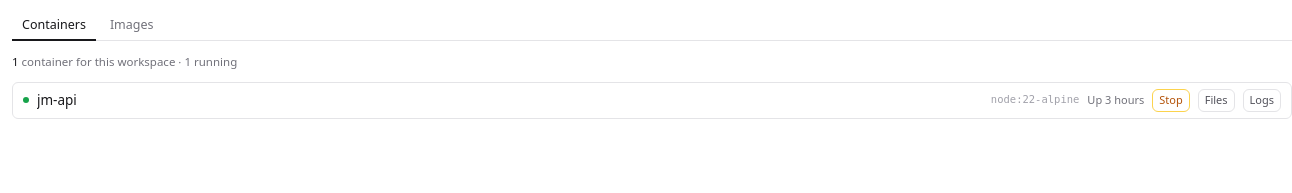
AC-6 — a click asks, it does not act › cancelling issues nothing and dismisses the question
The image size is (1292, 193).
Click the button with test id "docker-act-jm-api" at (1171, 100), box [1152,89,1190,112]
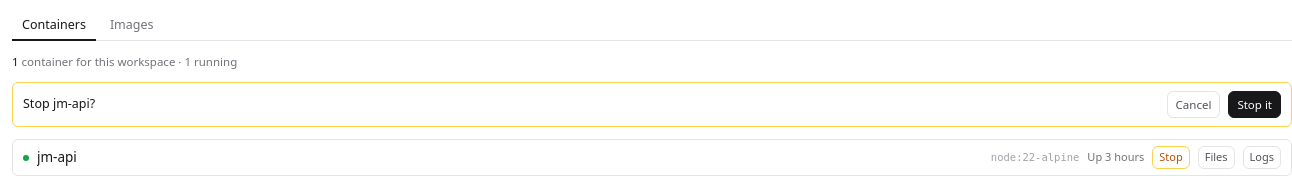
Click the button with test id "docker-confirm-cancel" at (1194, 105), box [1167,91,1220,118]
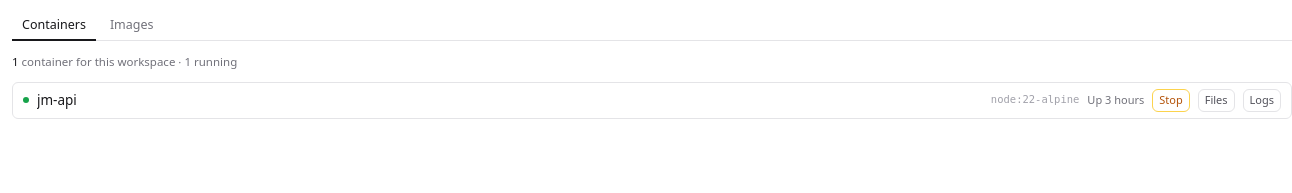
Result: the element with test id "docker-confirm" is gone
